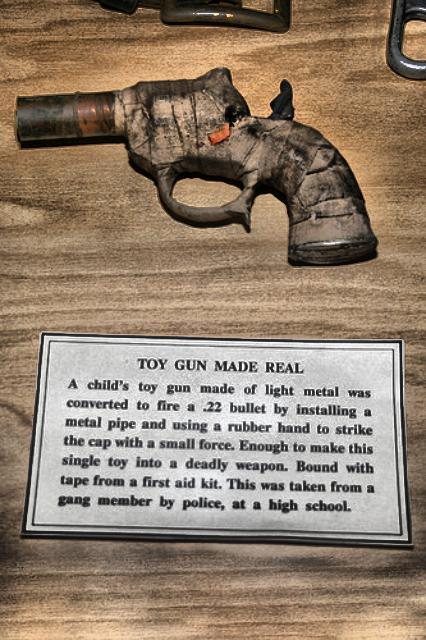pistol: (12, 67, 376, 265)
